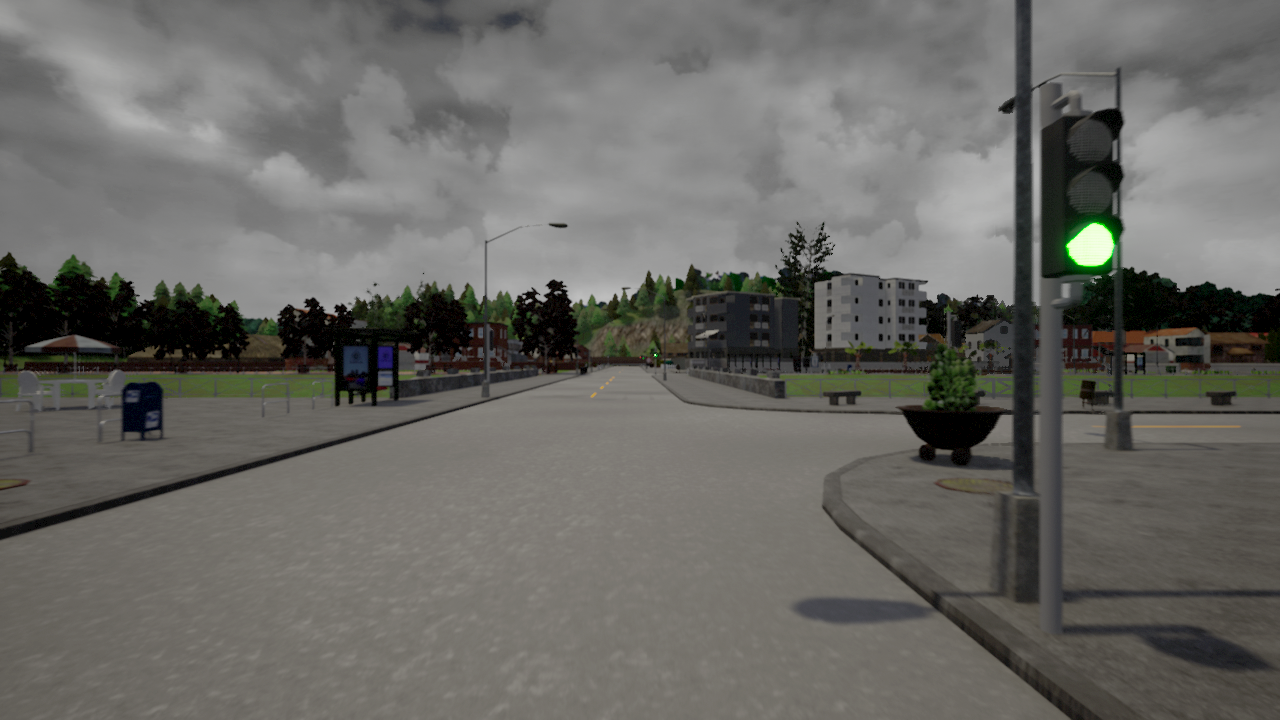green: (1046, 108, 1120, 278)
